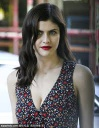female: (26, 8, 74, 65)
